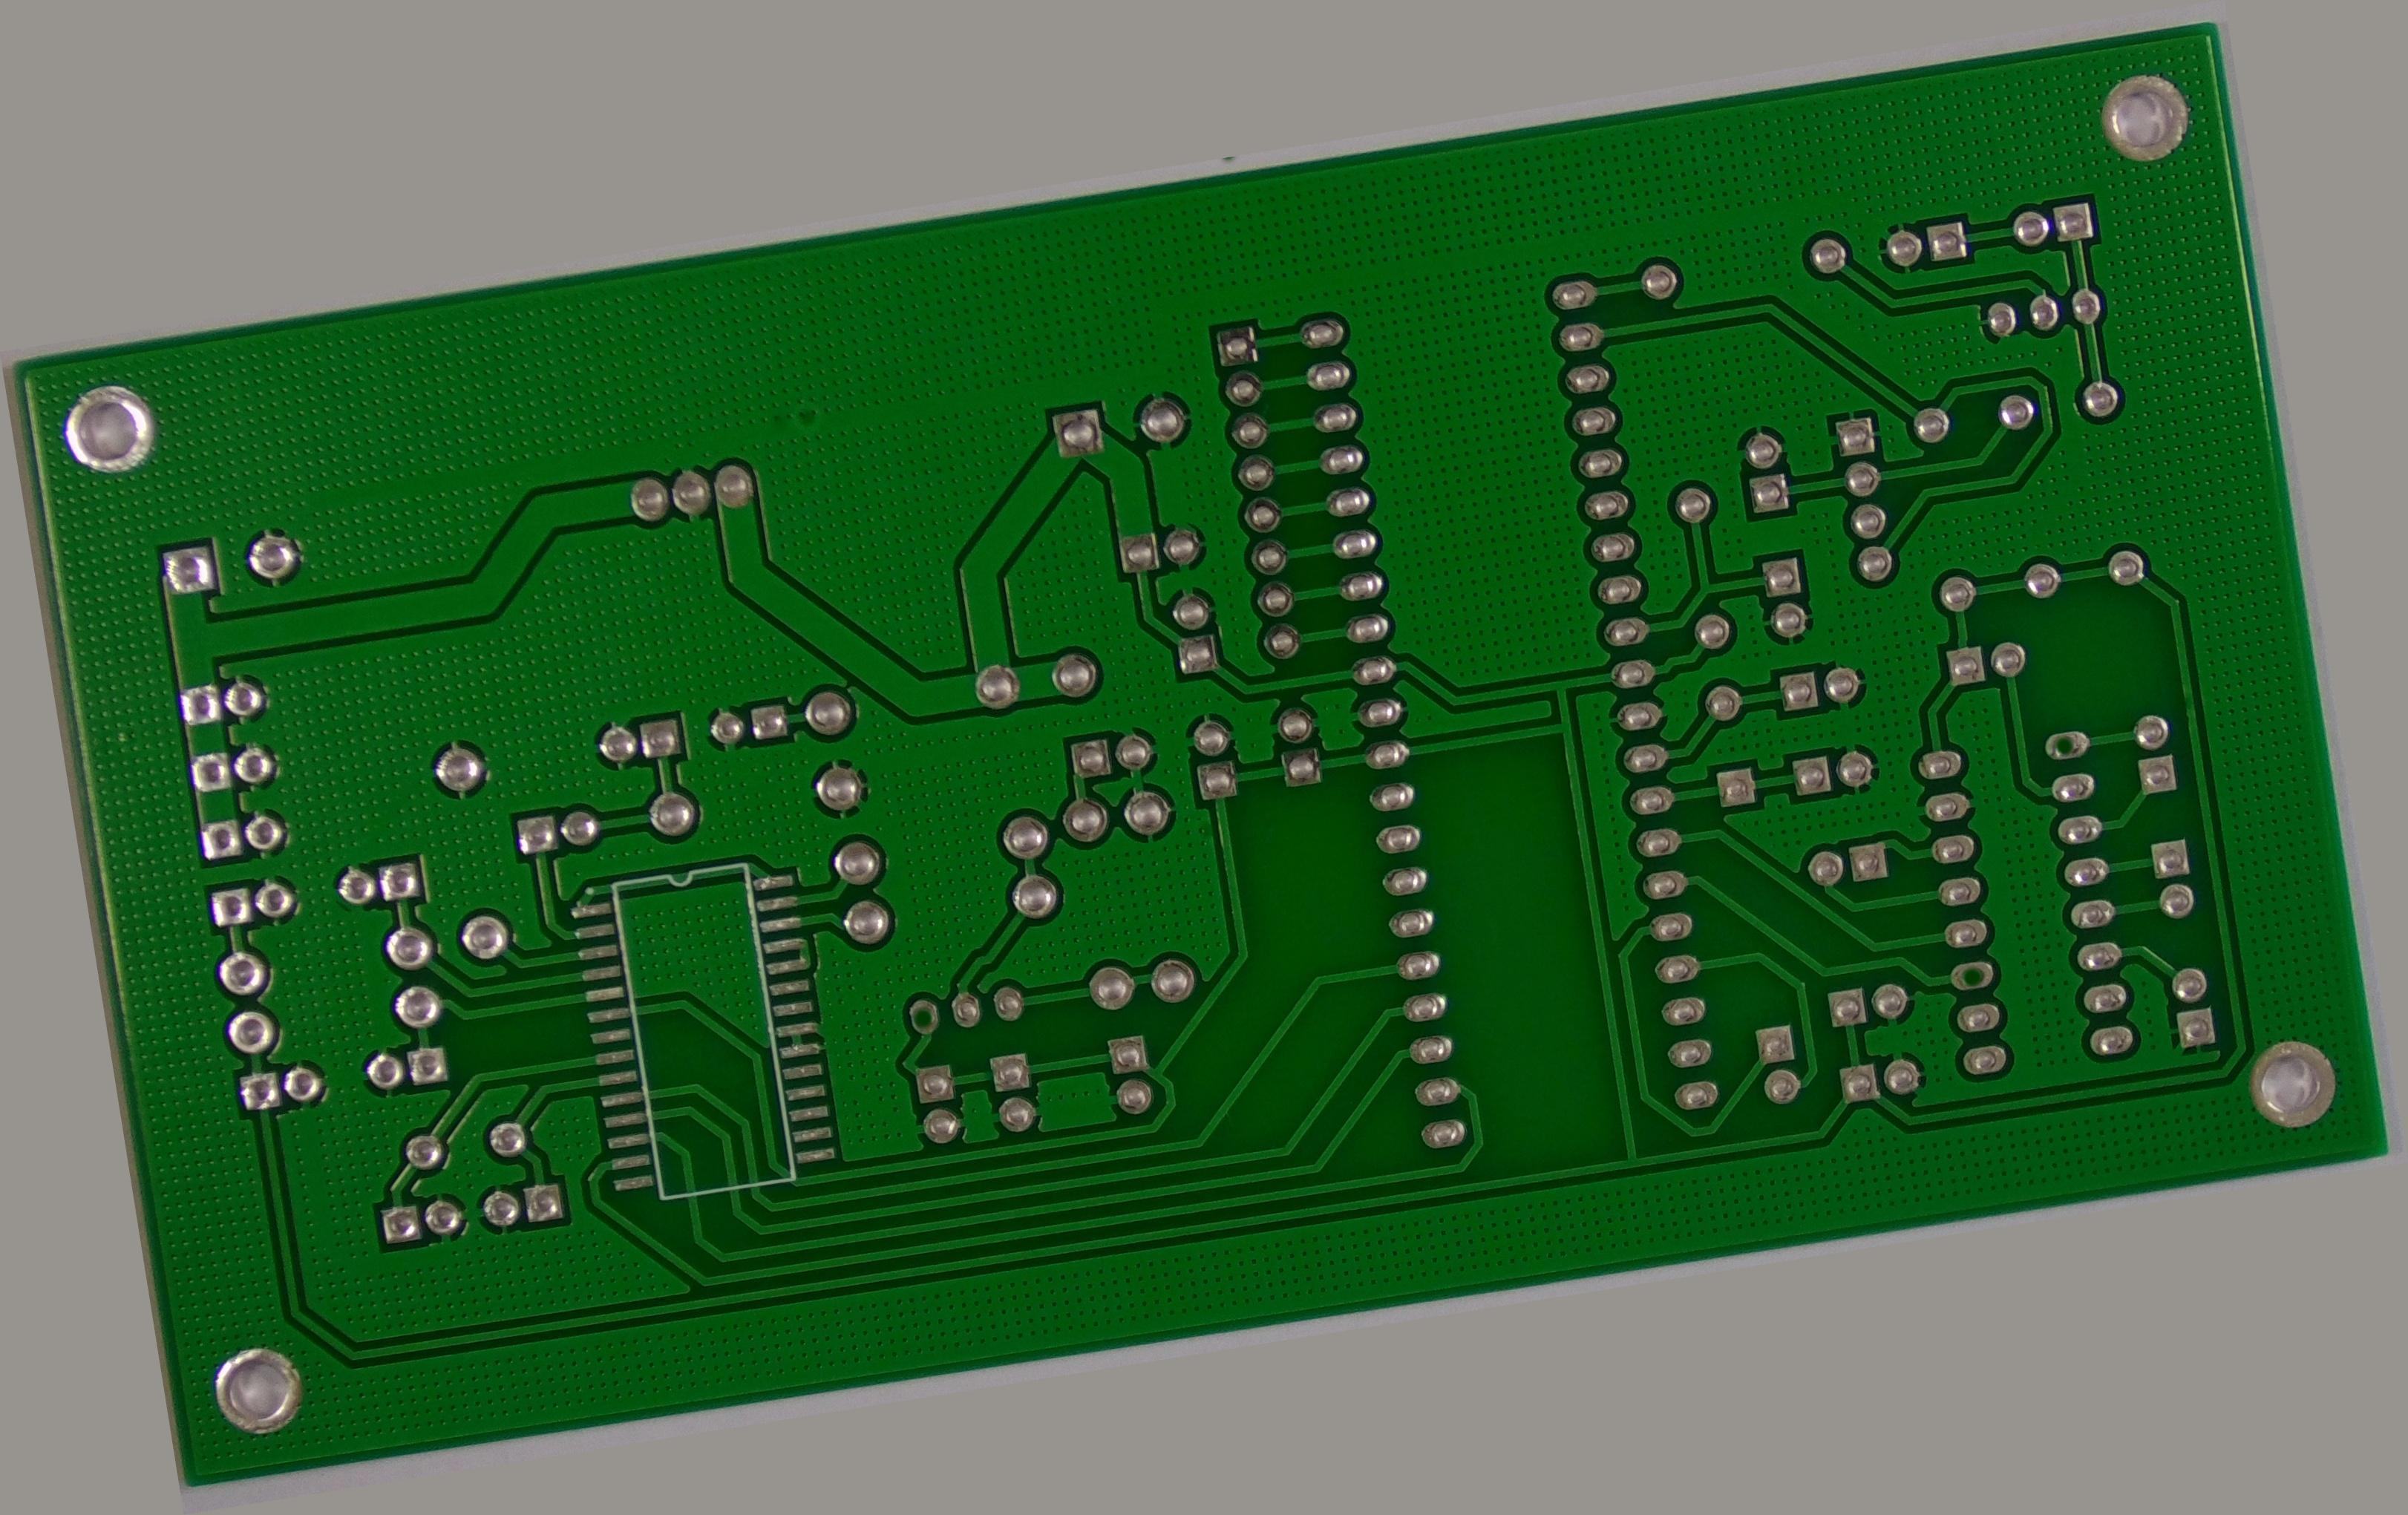missing_hole: (2089, 890, 2145, 944), (1951, 1164, 2005, 1218), (843, 998, 886, 1061)
